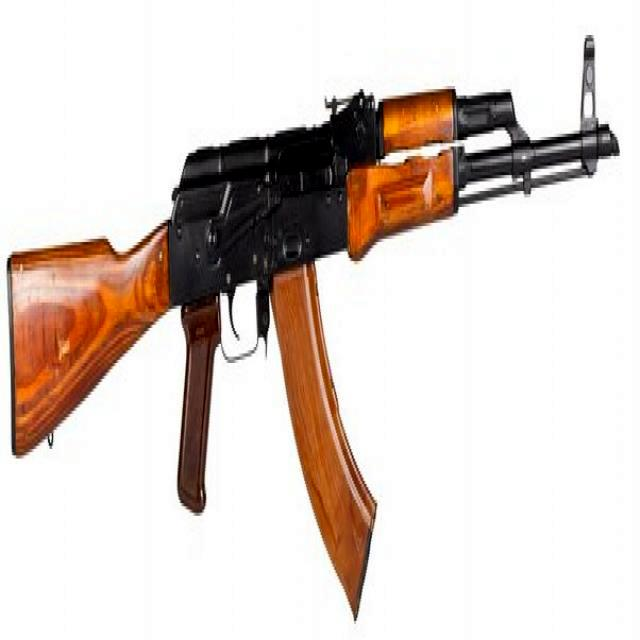ak: (0, 25, 625, 625)
